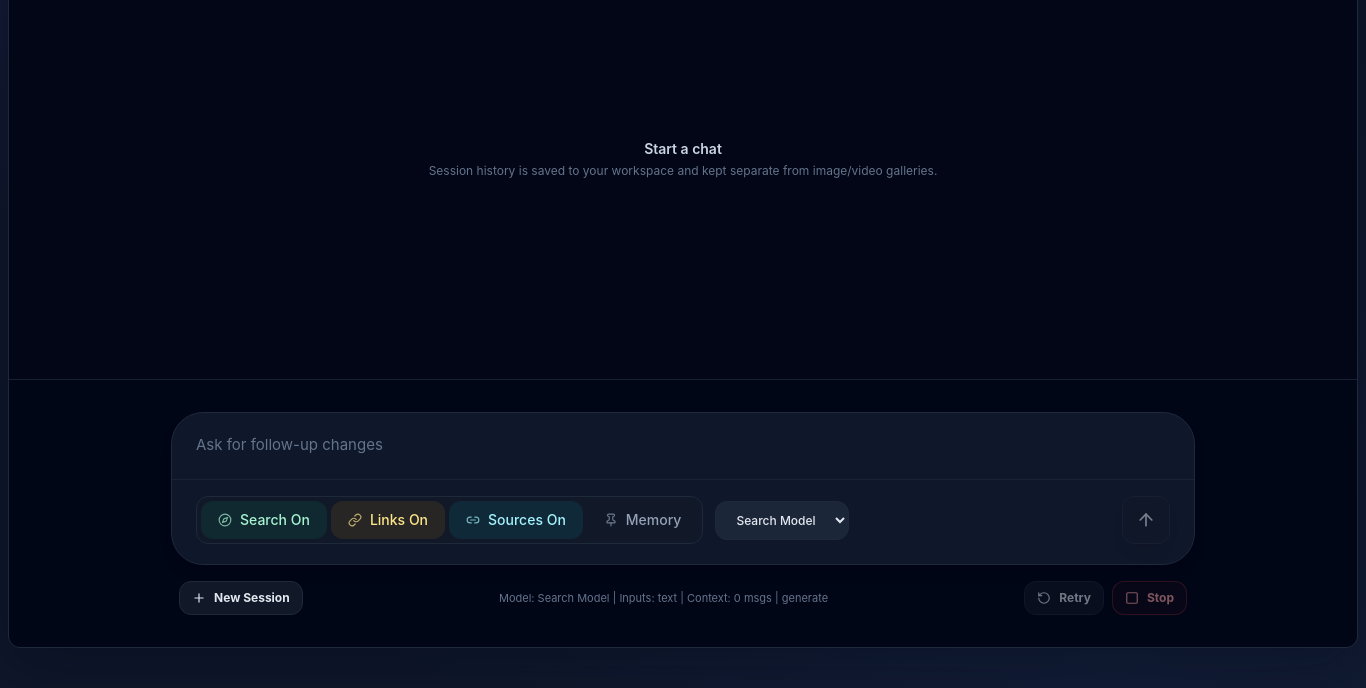
AIChat formatted-response regressions › renders "Search: On (Grounded)" in assistant metadata when search was applied
(page scrolled)
Type "Find latest info" into the text box with placeholder "Ask for follow-up changes". click: [683, 443]
box: [172, 413, 1194, 473]
Then press Enter
(page scrolled)
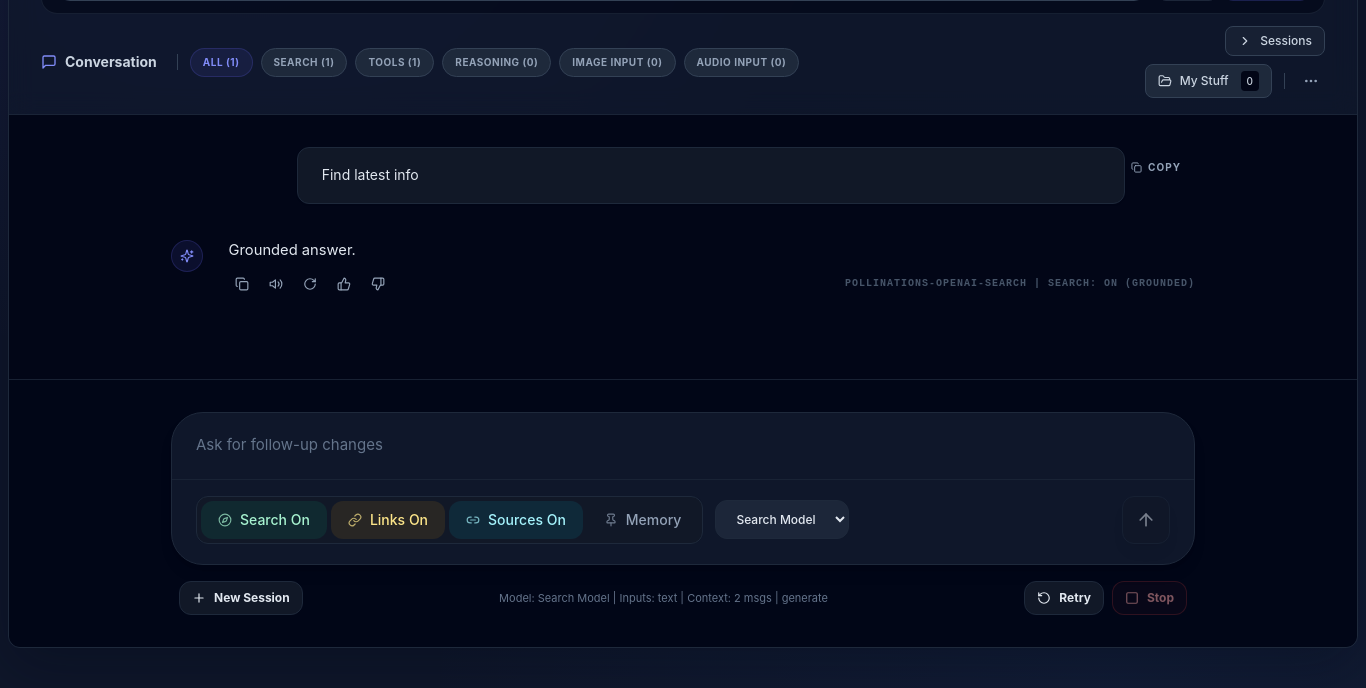
Check: the text "Grounded answer." is shown, box [229, 241, 356, 259]
Check: the text "pollinations-openai-search | Search: On (Grounded)" is shown, box [845, 276, 1195, 291]
